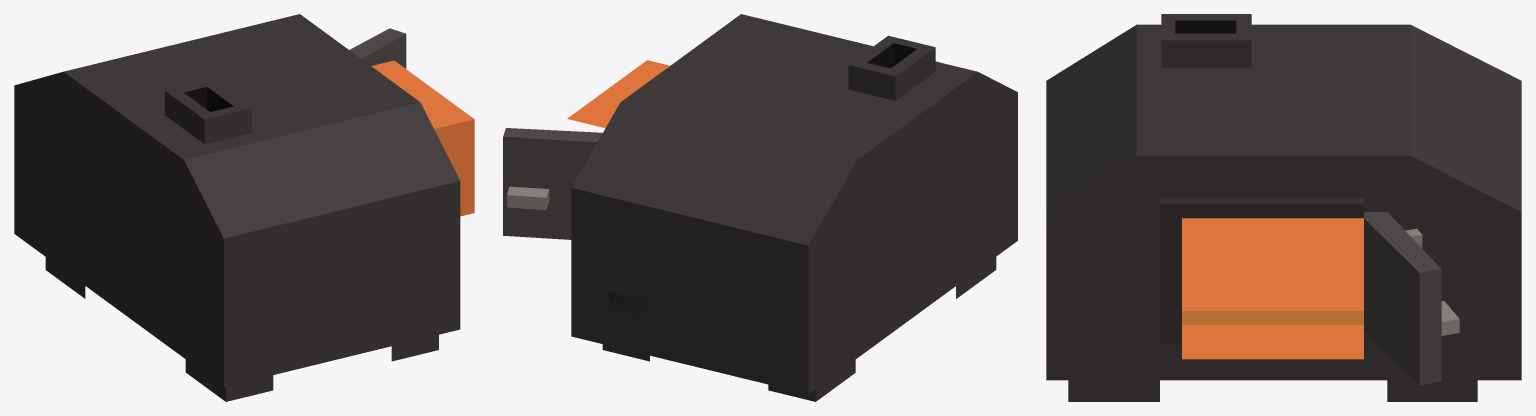
The model's file is obj_furnace_5_0.obj.
3 renders of one model, left to right at view 1: azimuth 30°, elevation 25°; view 2: azimuth 150°, elevation 25°; view 3: azimuth 270°, elevation 25°, orthographic. The views are drawn at different scales.
Size of the model in its own units: 2.75 by 1.88 by 2.88.
